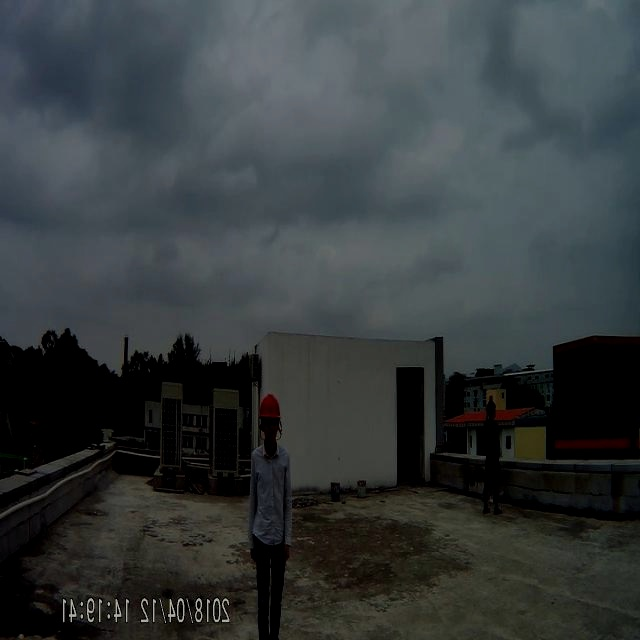Sin_Chaleco: (249, 443, 292, 545)
